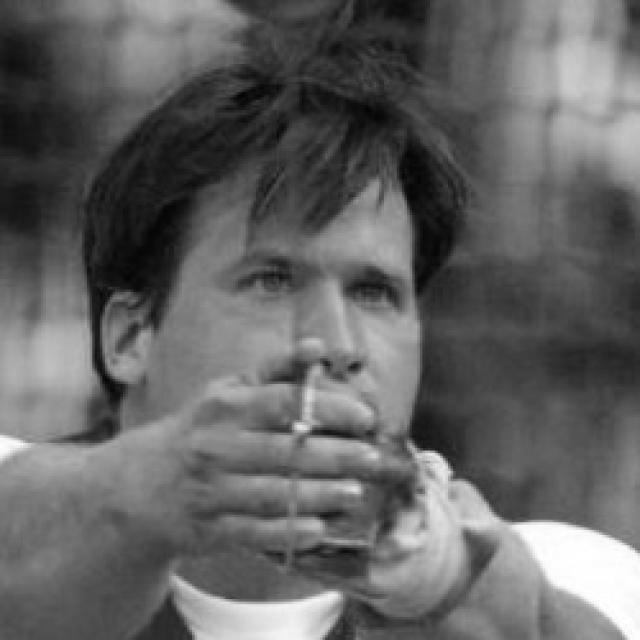real: (150, 142, 422, 486), (217, 251, 404, 321)
